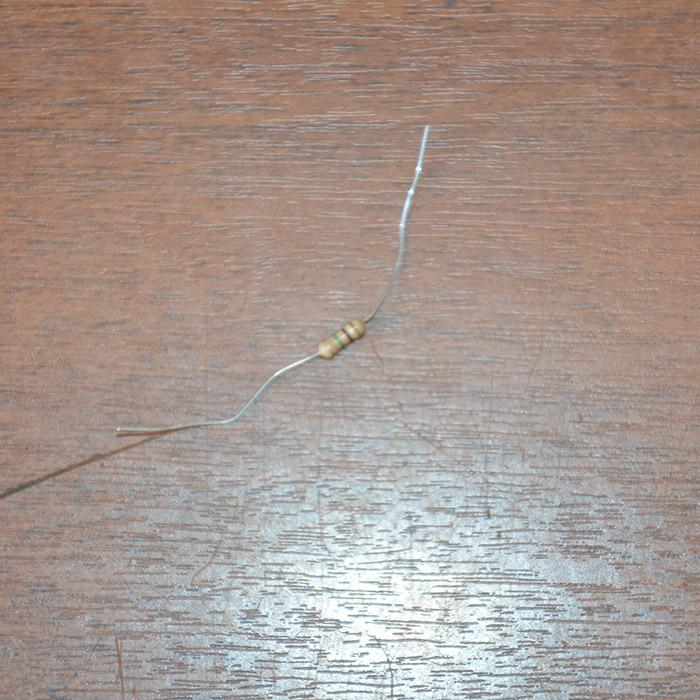resistor: (317, 320, 365, 360)
